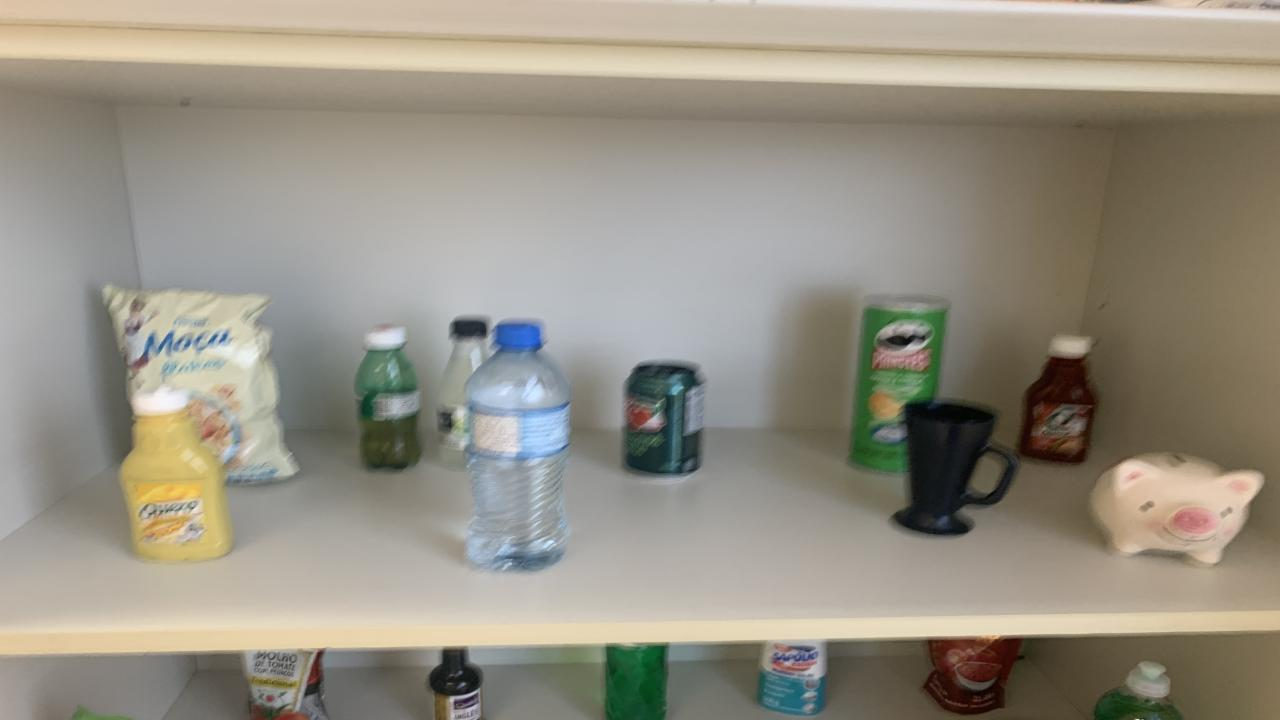Cleaner-Cleanup_Items: (758, 639, 828, 714)
Coffee-Pantry_Items: (922, 638, 1022, 714)
Detergent-Cleanup_Items: (1095, 662, 1182, 720), (605, 645, 668, 720)
English_Sauce-Pantry_Items: (428, 647, 482, 720)
Flakes-Snacks: (102, 285, 298, 482)
Guarana-Drinks: (355, 324, 422, 471)
Guarana_Can-Drinks: (622, 360, 705, 476)
Ketchup-Pantry_Items: (1018, 334, 1098, 463)
Mustard-Pantry_Items: (120, 386, 232, 561)
Pig_Safe-Miscellaneous: (1090, 452, 1265, 564)
Pringles-Snacks: (850, 294, 950, 472)
Soda-Drinks: (438, 317, 488, 469)
Tomato_Sauce-Pantry_Items: (242, 649, 328, 720)
Water_Bottle-Drinks: (468, 322, 570, 570)
